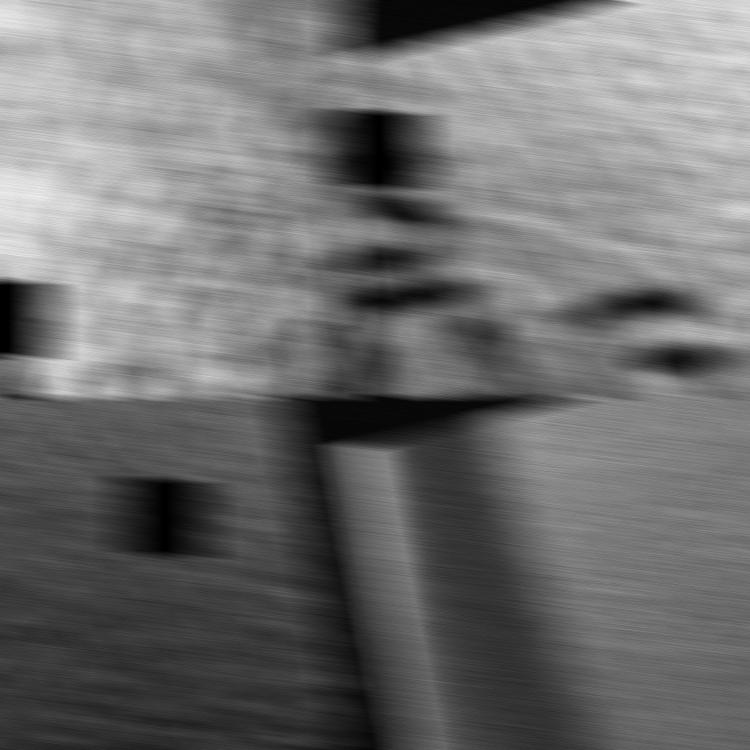AirbagV2: (336, 0, 750, 398), (338, 396, 750, 750), (0, 0, 354, 398), (0, 396, 354, 750)
